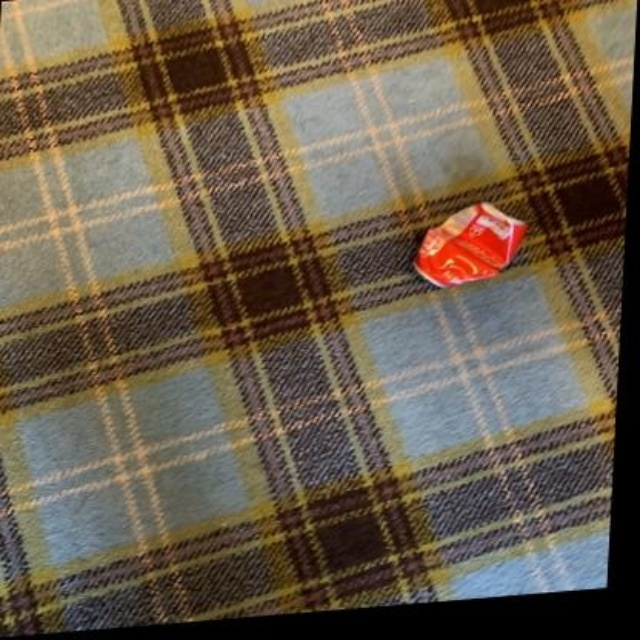trash: (414, 202, 526, 286)
